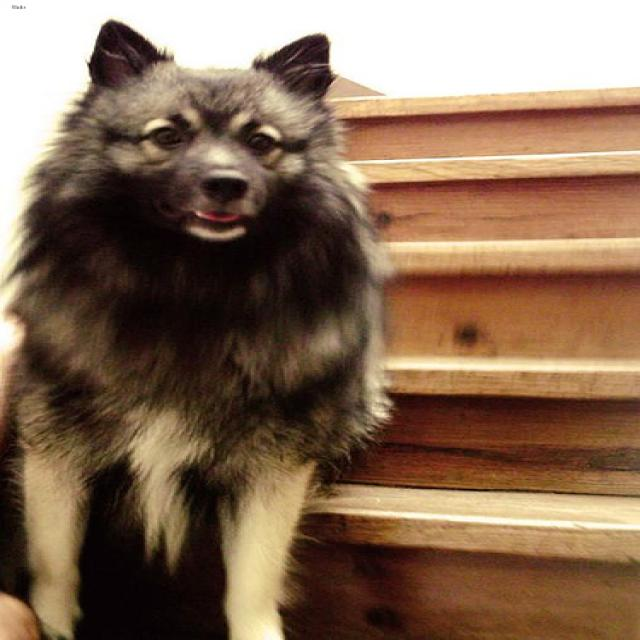dog-keeshond: (2, 8, 410, 637)
